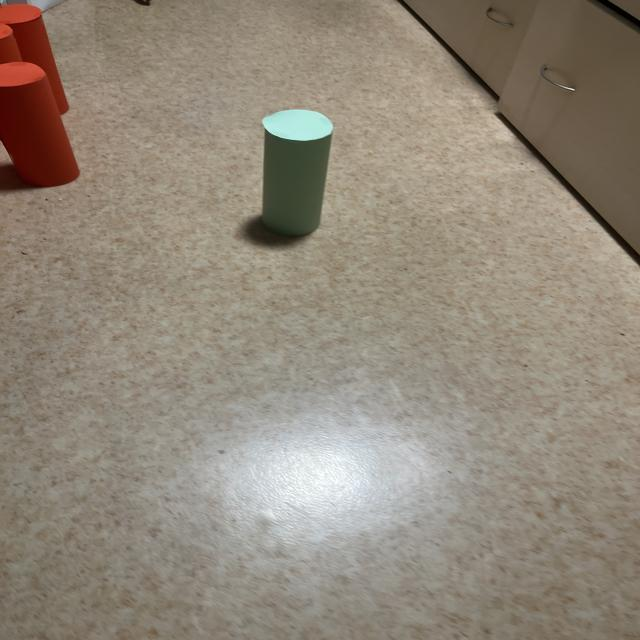meta: (262, 110, 332, 236)
